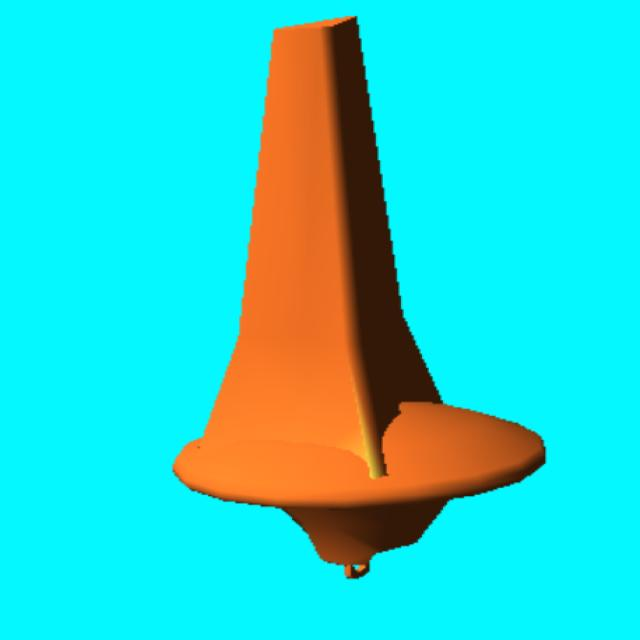OrangeBuoy: (173, 18, 544, 578)
